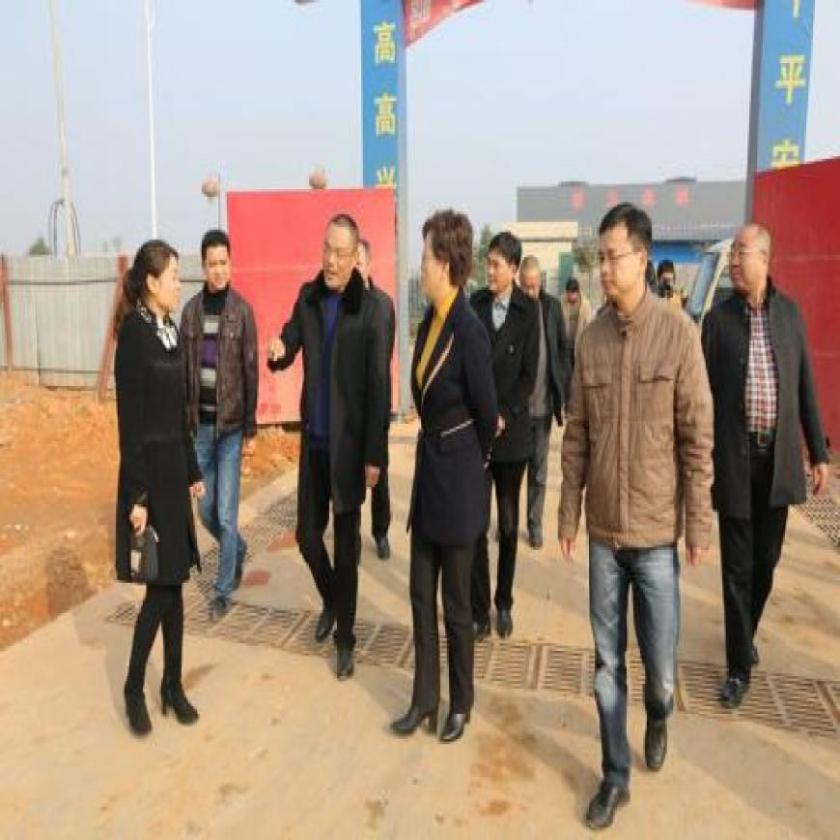Sin_casco: (597, 202, 654, 310), (417, 212, 475, 312), (128, 236, 185, 319), (724, 219, 777, 304), (320, 214, 358, 294), (199, 230, 236, 300), (487, 231, 521, 300), (522, 254, 544, 308)
